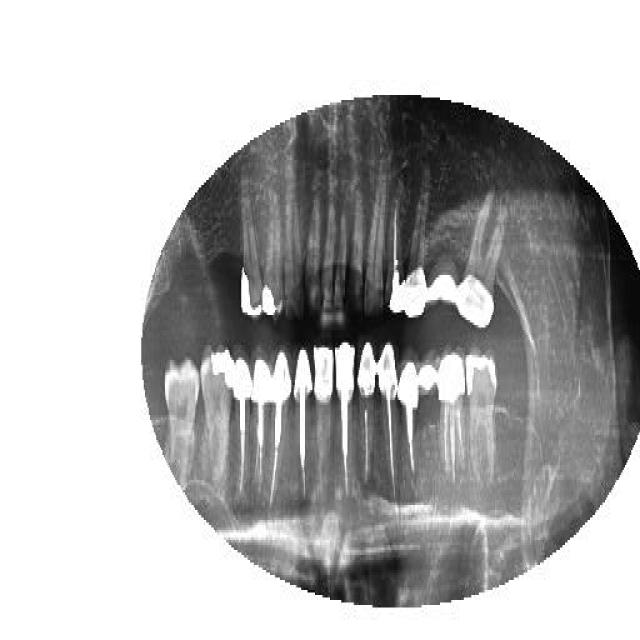Fillings: (455, 185, 509, 330), (200, 342, 234, 482), (467, 347, 498, 485), (404, 168, 430, 320), (240, 175, 264, 323), (313, 342, 335, 492), (262, 192, 282, 322), (428, 250, 458, 310), (419, 350, 439, 402)
Implant: (268, 348, 294, 510), (439, 345, 466, 485), (378, 340, 398, 512), (335, 342, 356, 498), (357, 340, 378, 495), (398, 342, 420, 480), (232, 350, 252, 495), (252, 352, 272, 492), (385, 180, 405, 318), (296, 342, 312, 502)
